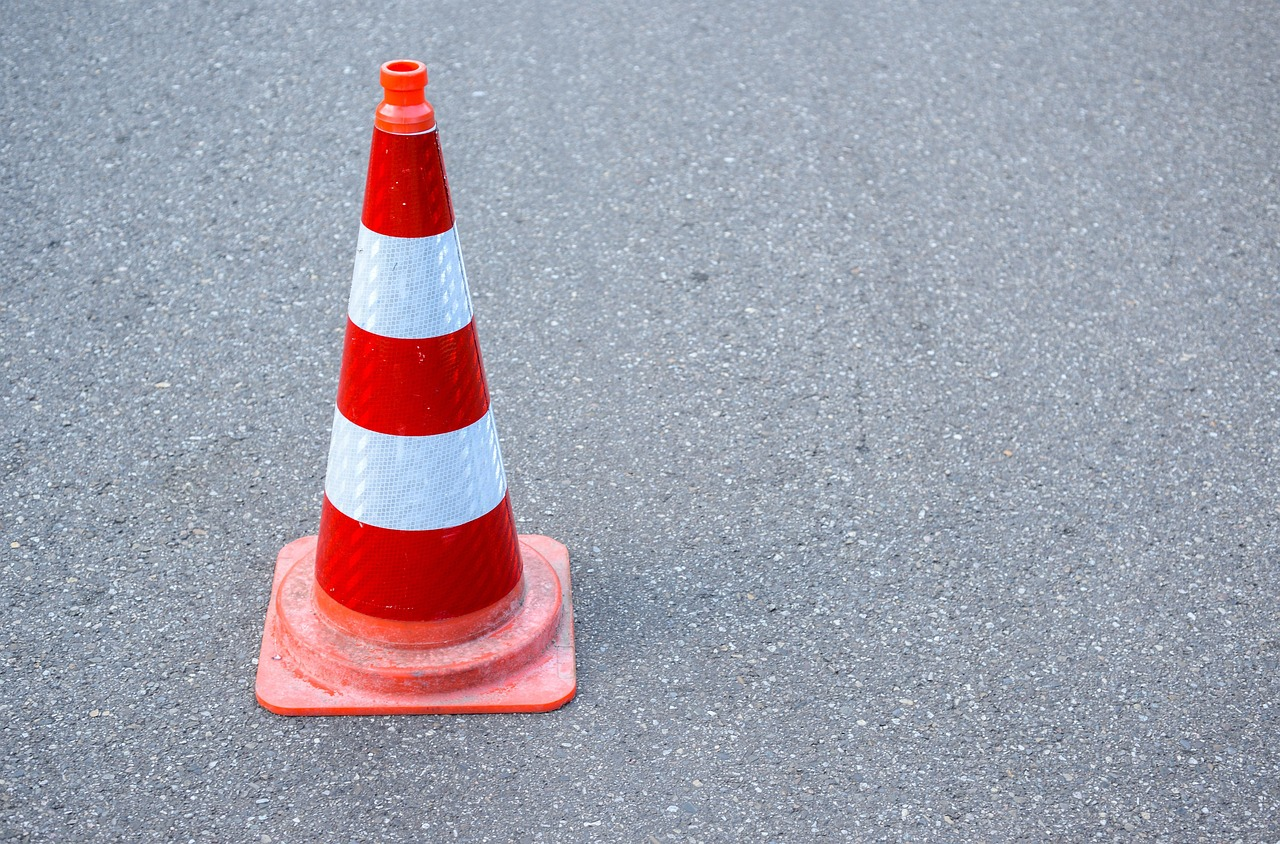traffic_cone: (254, 58, 578, 716)
